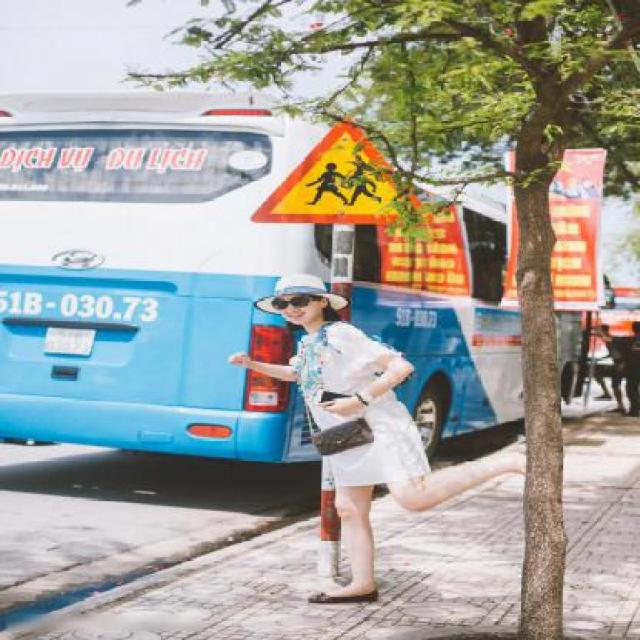Person: (217, 266, 529, 629)
